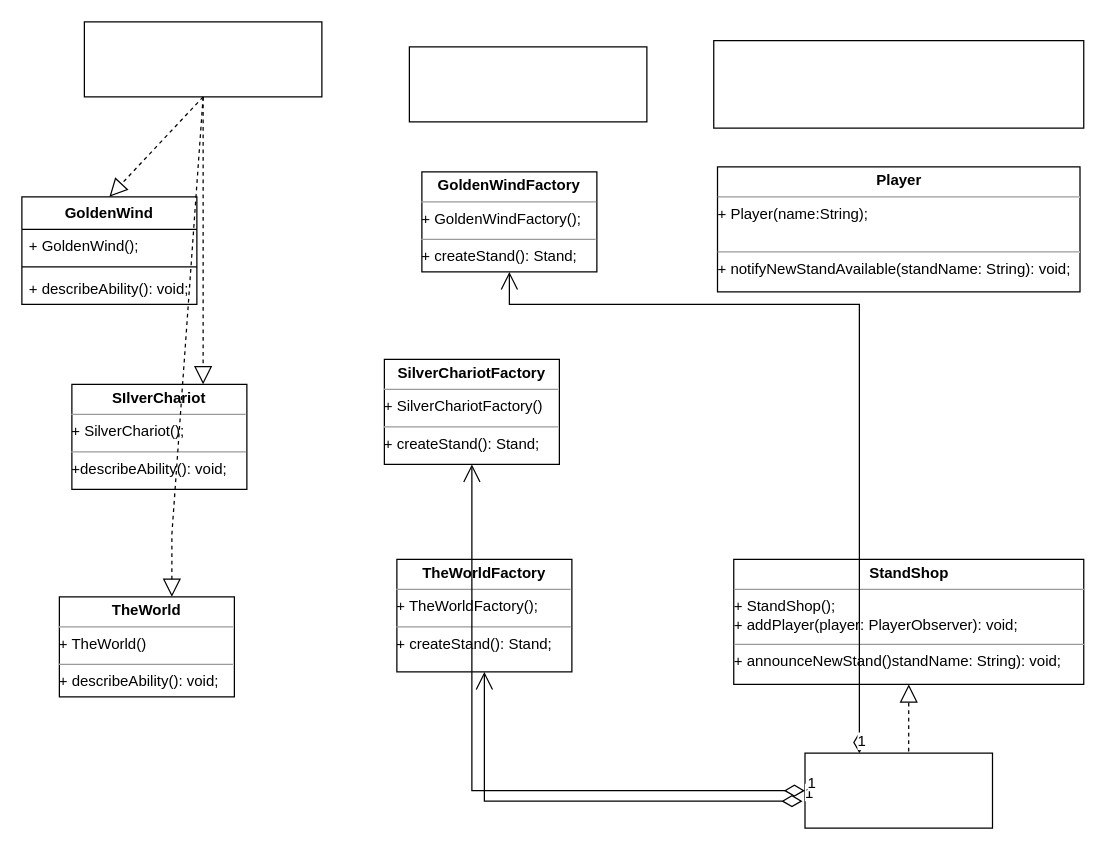
This 1106x850 diagram has some shape labels left out. The box of each missing label's shape, as (x1, y1, x2, y2) in pixels:
<<Interface>> PlayerObserver + notifyNewStandAvailable(standName: String): void;: (712, 39, 1084, 128)
<<Interface>> Stand + describeAbility();: (83, 21, 322, 97)
<<Interface>> StandFactory + createStand(): Stand;: (408, 46, 647, 122)
JojoRPGWorld +main(args: String[]): void;: (804, 752, 992, 828)
